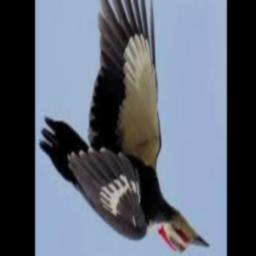Woodpecker: (39, 0, 210, 255)
